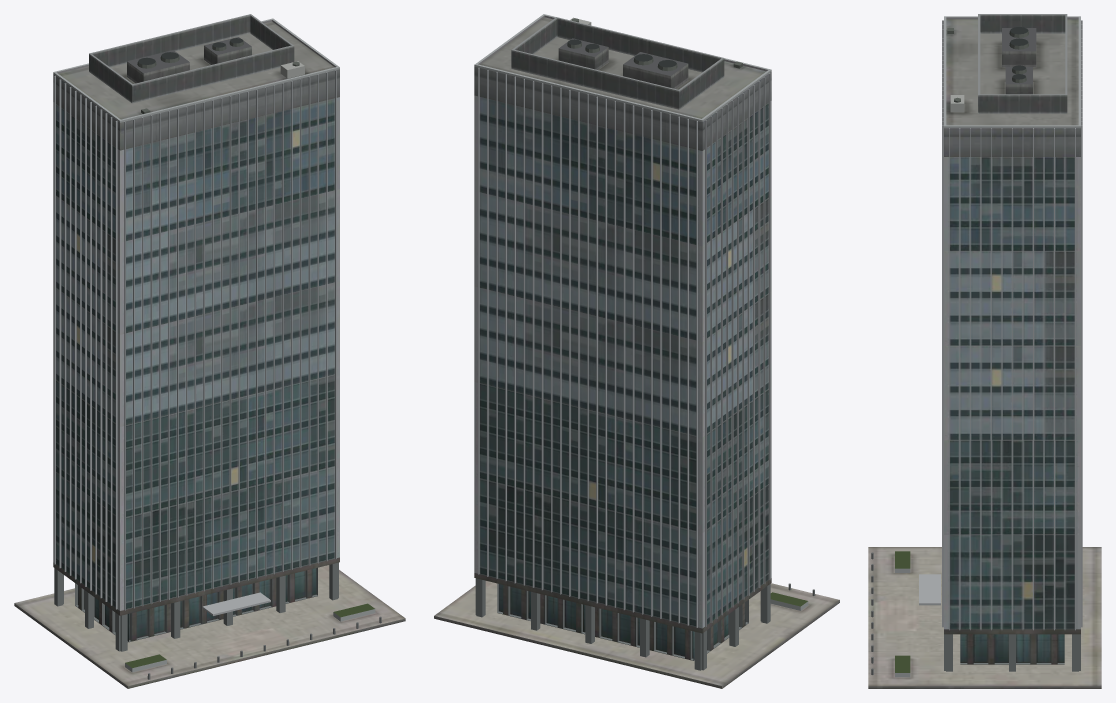
The model's file is nyc_glassslab_a.glb.
The picture shows the model from 3 angles, left to right: view 1: azimuth 30°, elevation 25°; view 2: azimuth 150°, elevation 25°; view 3: azimuth 270°, elevation 25°; orthographic projection. The views are drawn at different scales.
Visible parts, largest first — view 1: nyc_glassslab_a; view 2: nyc_glassslab_a; view 3: nyc_glassslab_a.
Boxes of the visible parts, bbox=[...] form: nyc_glassslab_a: bbox=[14, 14, 405, 688]; nyc_glassslab_a: bbox=[434, 14, 839, 688]; nyc_glassslab_a: bbox=[868, 14, 1101, 688].
Size of the model in its own units: 48.01 by 91 by 34.
Materials: 1 (1 with a texture image).
